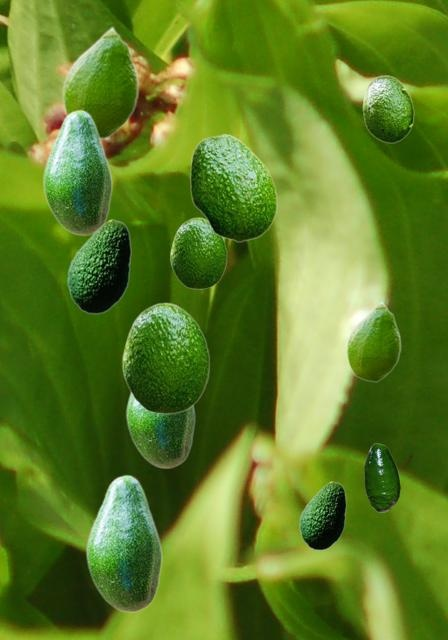avocado: (85, 474, 161, 612), (122, 302, 209, 413), (189, 133, 276, 241), (42, 109, 111, 235), (62, 25, 138, 138), (67, 219, 130, 313), (125, 392, 194, 468), (346, 300, 400, 381), (170, 217, 226, 288), (362, 75, 413, 142), (299, 481, 345, 549), (364, 443, 399, 511)
